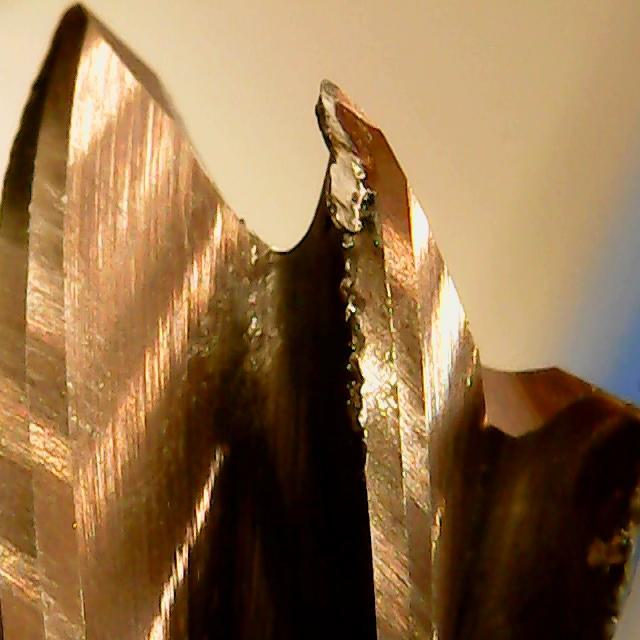Tool-wear-class-2: (291, 73, 469, 377)
